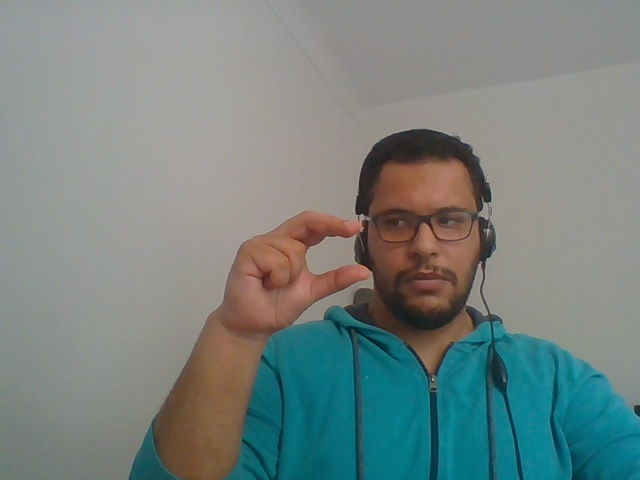no: (198, 188, 373, 350)
